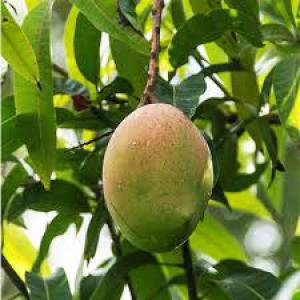Tree: (5, 0, 291, 295)
